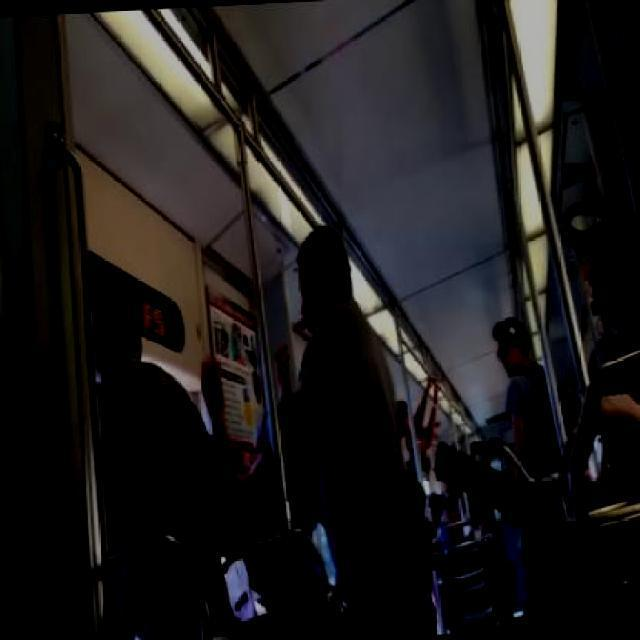fight: (229, 214, 437, 638)
non-fight: (490, 312, 576, 468)
